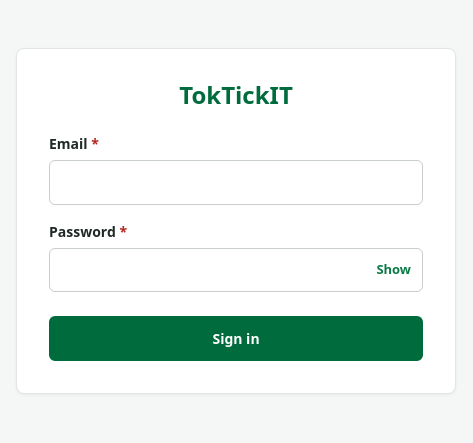
it: Login page › UI-03: shows 'Invalid email or password' banner when API returns 401
This screenshot has width=473, height=443.
In the field labelled "Email *": (236, 183) [49,160,423,205], type "alice@example.com"
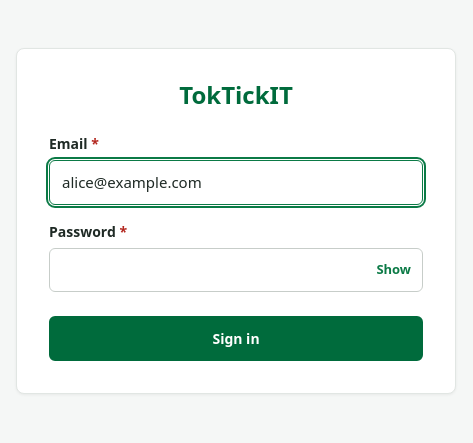
In the password field labelled "Password *": (236, 270) [49,248,423,292], type "WrongPass1"
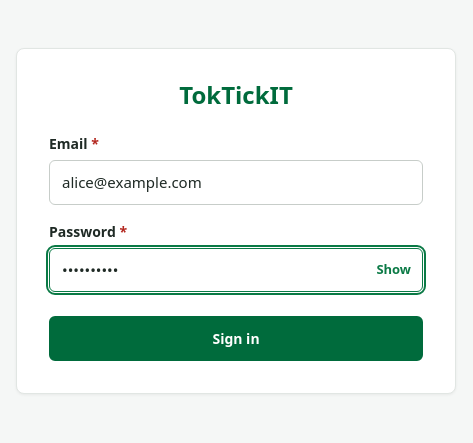
Click the button "Sign in": (236, 339) [49,316,423,361]
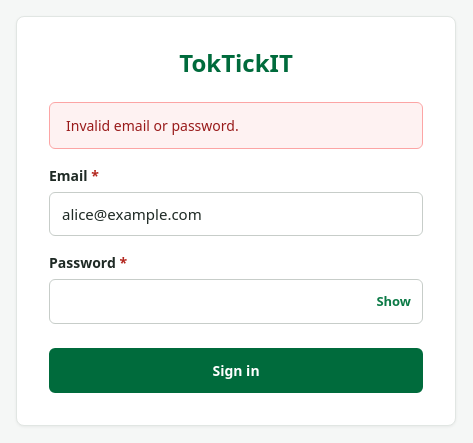
Expected: the message shows "Invalid email or password", [66,116,239,135]
